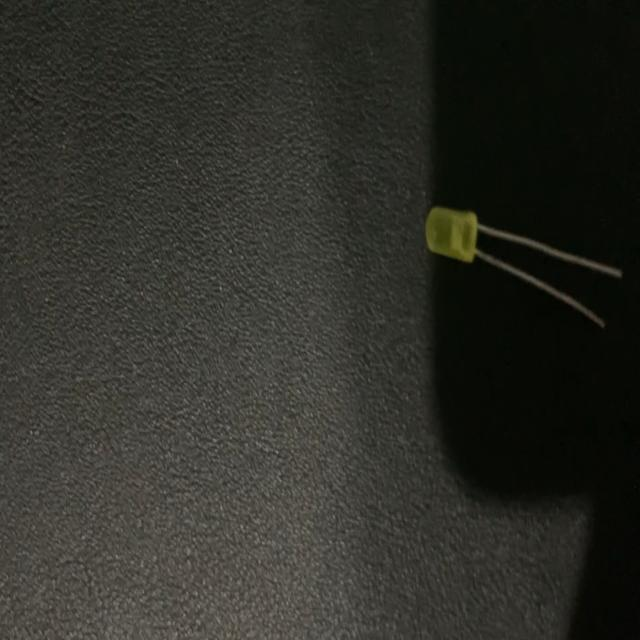LED: (424, 205, 626, 336)
